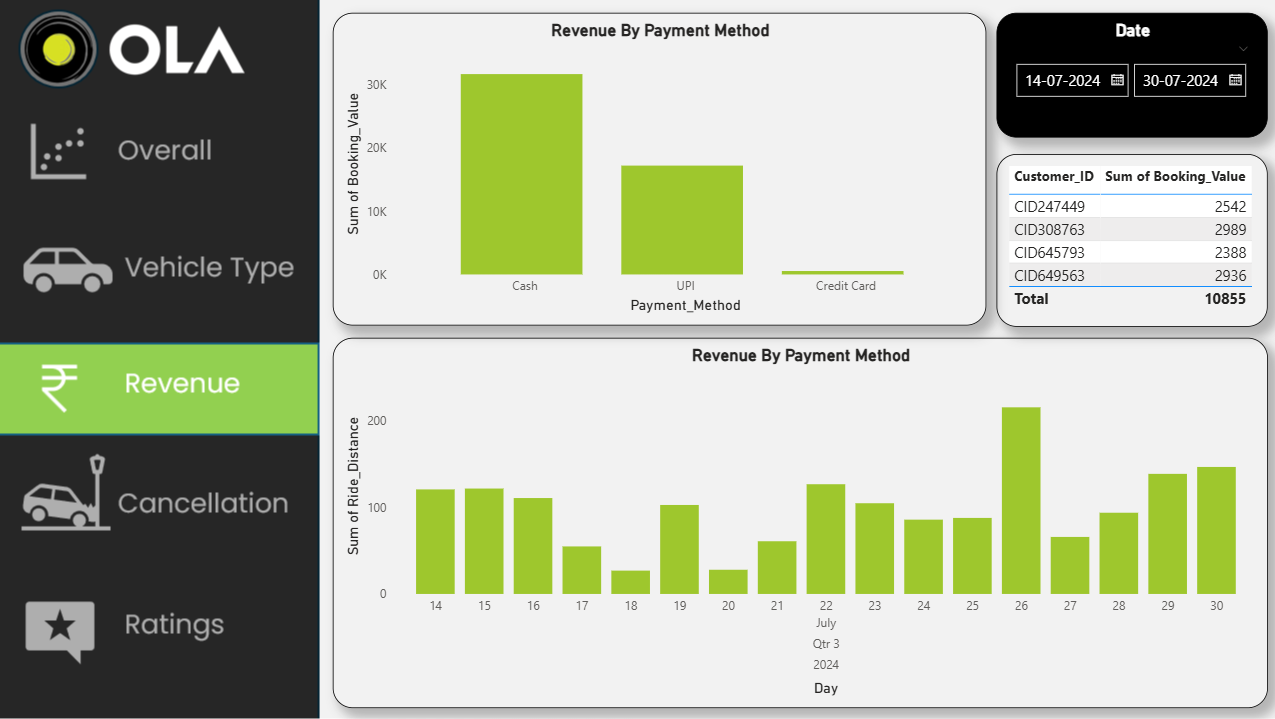

What the dashboard file says about the page in this screenshot:
{"tool":"powerbi","page":{"name":"Revenue","canvas":[1280,720],"ordinal":2},"visuals":[{"type":"actionButton","box":[0,107.4,320.9,94.1],"z":0},{"type":"actionButton","box":[0,219.6,320.9,94.1],"z":1000},{"type":"actionButton","box":[0,339,320.9,94.1],"z":2000},{"type":"actionButton","box":[0,446.4,320.9,94.1],"z":3000},{"type":"actionButton","box":[0,582.7,320.9,94.1],"z":4000},{"type":"columnChart","title":"Revenue By Payment Method","fields":{"Y":["Sum(Bookings.Booking_Value)"],"Category":["Bookings.Payment_Method"]},"box":[333.8,13.8,653.8,312.5],"z":5000},{"type":"columnChart","title":"Revenue By Payment Method","fields":{"Y":["Sum(Bookings.Ride_Distance)"],"Category":["Bookings.Date.Variation.Date Hierarchy.Year","Bookings.Date.Variation.Date Hierarchy.Quarter","Bookings.Date.Variation.Date Hierarchy.Month","Bookings.Date.Variation.Date Hierarchy.Day"]},"box":[333.8,338.8,935,370],"z":6000},{"type":"slicer","title":"Date","fields":{"Values":["Bookings.Date"]},"box":[997.5,13.8,271.2,125],"z":7000},{"type":"tableEx","fields":{"Values":["Bookings.Customer_ID","Sum(Bookings.Booking_Value)"]},"box":[997.5,155,271.2,172.5],"z":8000}]}

Visuals, with their boxes on the page's 1280x720 design canvas (x1, y1, x2, y2). These are canvas units, not pixel positions in the 1275x719 screenshot, which may show the page scaled, cropped or inside an application window:
actionButton: bbox(0, 107, 321, 202)
actionButton: bbox(0, 220, 321, 314)
actionButton: bbox(0, 339, 321, 433)
actionButton: bbox(0, 446, 321, 540)
actionButton: bbox(0, 583, 321, 677)
"Revenue By Payment Method" columnChart: bbox(334, 14, 988, 326)
"Revenue By Payment Method" columnChart: bbox(334, 339, 1269, 709)
"Date" slicer: bbox(998, 14, 1269, 139)
tableEx - Bookings.Customer_ID x Sum(Bookings.Booking_Value): bbox(998, 155, 1269, 328)
